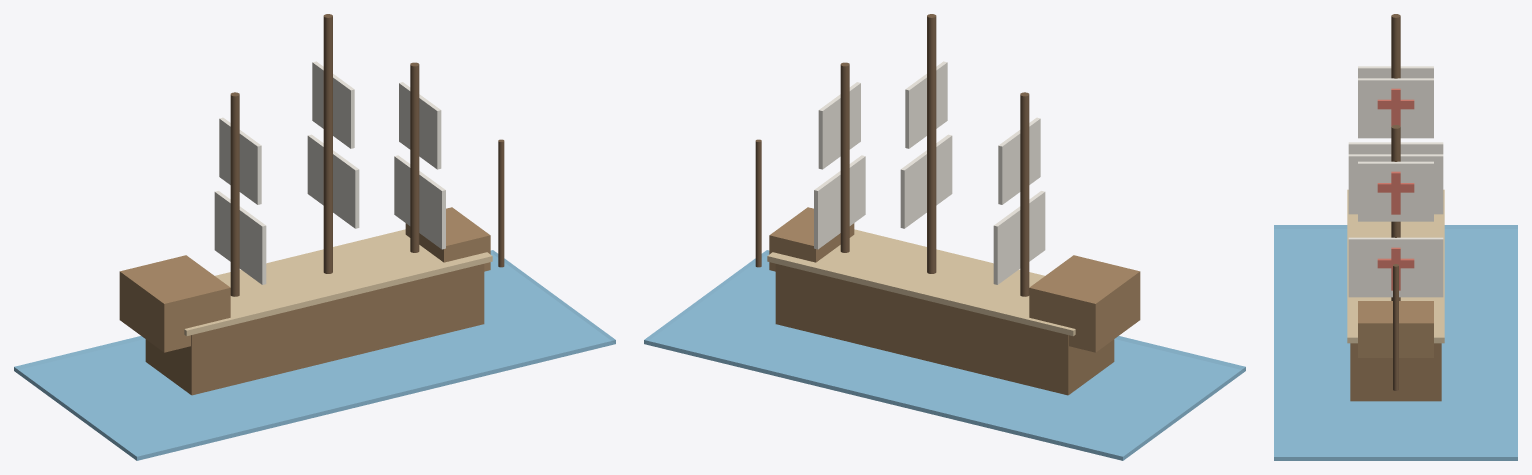
The model's file is ship.glb.
3 views of the same model, side by side, from view 1: azimuth 30°, elevation 25°; view 2: azimuth 150°, elevation 25°; view 3: azimuth 270°, elevation 25° (orthographic).
Parts seen in each view (by area): view 1: geometry_0, geometry_1, geometry_4, geometry_2, geometry_6, geometry_20, geometry_13, geometry_12, geometry_9, geometry_23, geometry_3, geometry_16 (+3 smaller); view 2: geometry_0, geometry_1, geometry_4, geometry_2, geometry_6, geometry_20, geometry_13, geometry_12, geometry_9, geometry_23, geometry_3, geometry_16 (+3 smaller); view 3: geometry_0, geometry_20, geometry_1, geometry_23, geometry_3, geometry_16, geometry_4, geometry_13, geometry_6, geometry_9, geometry_26, geometry_12 (+7 smaller).
Boxes of the visible parts, left/top/right/bottom form: geometry_0: left=14, top=250, right=615, bottom=460; geometry_1: left=145, top=264, right=484, bottom=395; geometry_4: left=184, top=229, right=492, bottom=336; geometry_2: left=119, top=255, right=230, bottom=352; geometry_6: left=214, top=191, right=266, bottom=284; geometry_20: left=394, top=155, right=445, bottom=249; geometry_13: left=307, top=134, right=359, bottom=228; geometry_12: left=323, top=14, right=332, bottom=273; geometry_9: left=219, top=117, right=261, bottom=204; geometry_23: left=399, top=82, right=441, bottom=169; geometry_3: left=405, top=207, right=490, bottom=271; geometry_16: left=312, top=61, right=354, bottom=148; geometry_0: left=644, top=250, right=1245, bottom=460; geometry_1: left=775, top=264, right=1114, bottom=395; geometry_4: left=767, top=229, right=1075, bottom=336; geometry_2: left=1029, top=255, right=1140, bottom=352; geometry_6: left=993, top=191, right=1045, bottom=284; geometry_20: left=814, top=155, right=865, bottom=249; geometry_13: left=900, top=134, right=952, bottom=228; geometry_12: left=927, top=14, right=936, bottom=273; geometry_9: left=998, top=117, right=1040, bottom=204; geometry_23: left=818, top=82, right=860, bottom=169; geometry_3: left=769, top=207, right=854, bottom=271; geometry_16: left=905, top=61, right=947, bottom=148; geometry_0: left=1274, top=225, right=1517, bottom=460; geometry_20: left=1348, top=237, right=1443, bottom=297; geometry_1: left=1350, top=343, right=1441, bottom=401; geometry_23: left=1358, top=161, right=1433, bottom=221; geometry_3: left=1358, top=301, right=1433, bottom=357; geometry_16: left=1358, top=78, right=1433, bottom=138; geometry_4: left=1347, top=189, right=1444, bottom=343; geometry_13: left=1348, top=154, right=1443, bottom=214; geometry_6: left=1348, top=142, right=1443, bottom=154; geometry_9: left=1358, top=66, right=1433, bottom=78; geometry_26: left=1393, top=264, right=1398, bottom=390; geometry_12: left=1391, top=14, right=1400, bottom=78.
Bounding box in the file's own units: 3.6 × 2.43 × 1.6.
